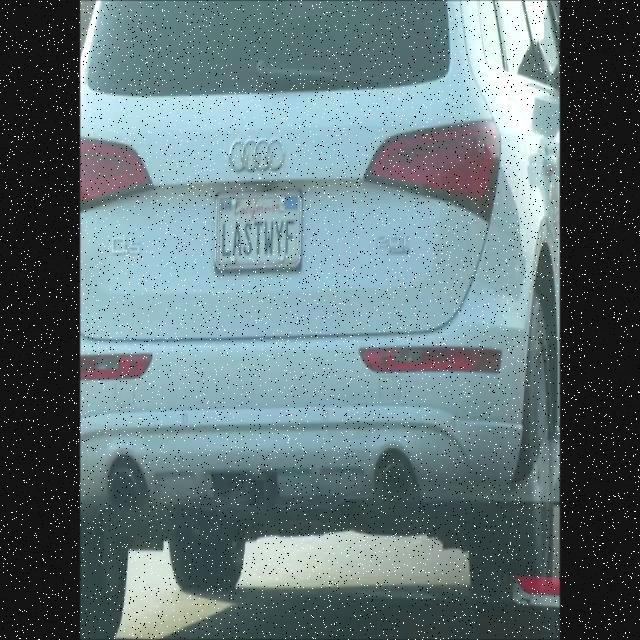licenseplate: (206, 176, 313, 280)
